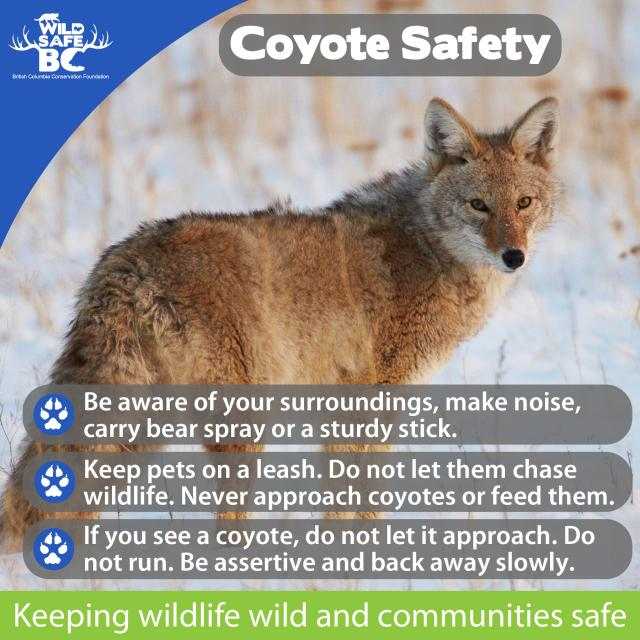Coyote: (48, 92, 560, 384)
